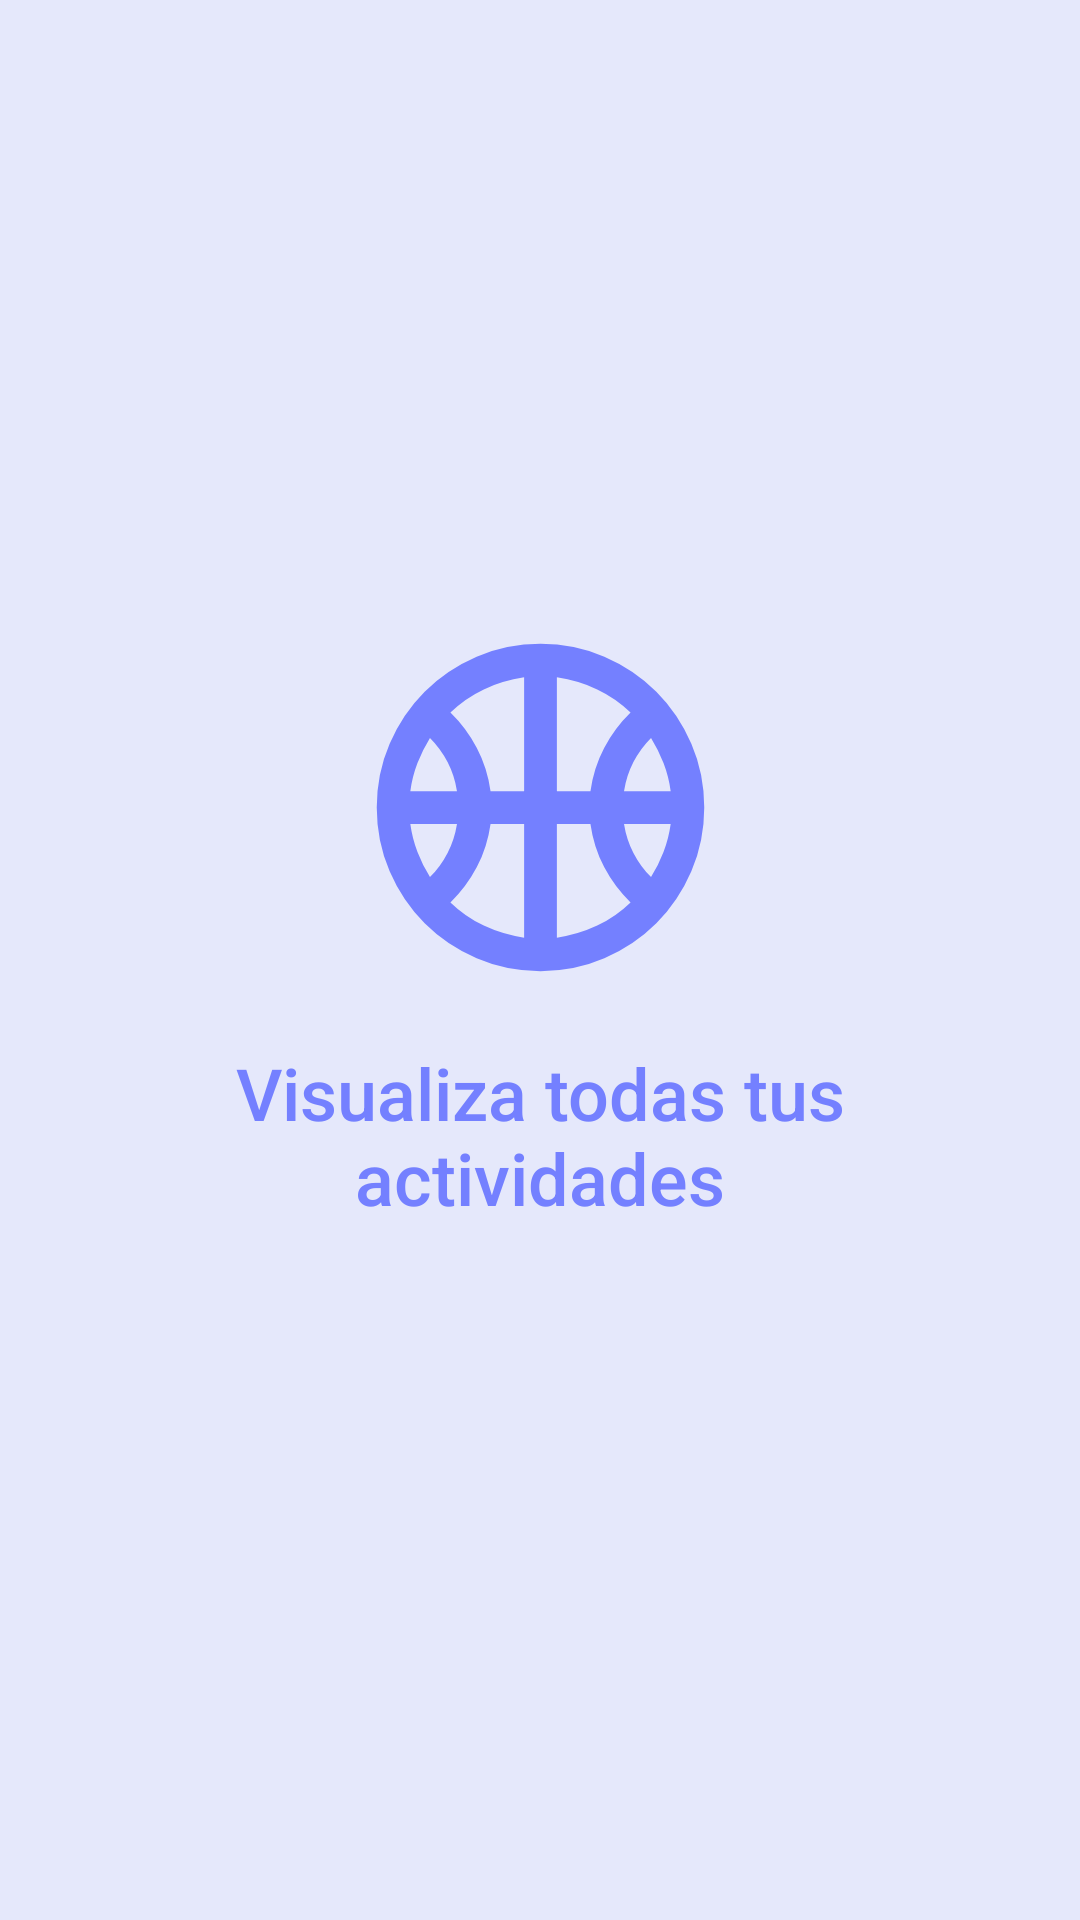

Where icons sit on this 1080*1920 app screen, as (x1, y1, x2, y2):
ball: (376, 643, 705, 972)
